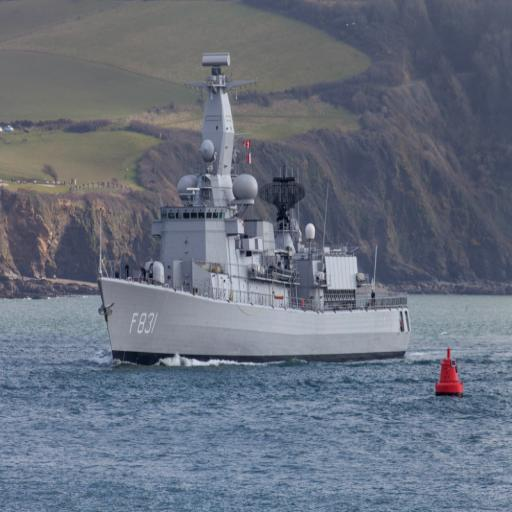Fragata: (94, 53, 416, 366)
